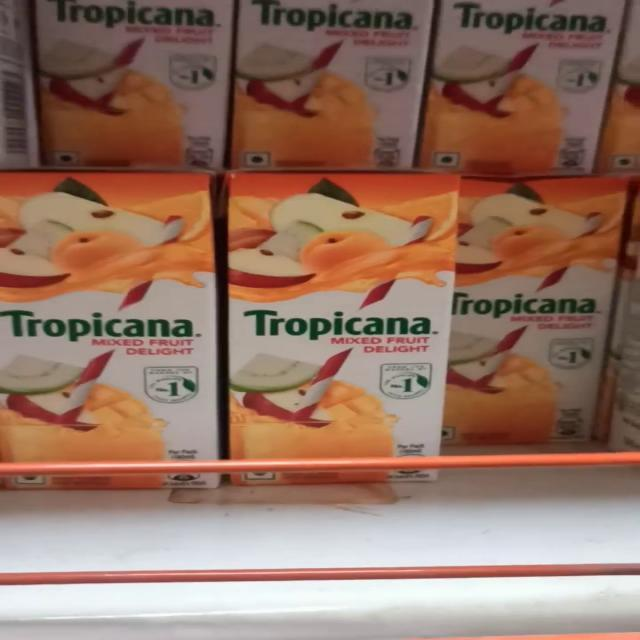Tropicana: (0, 168, 226, 480), (228, 168, 448, 472)
